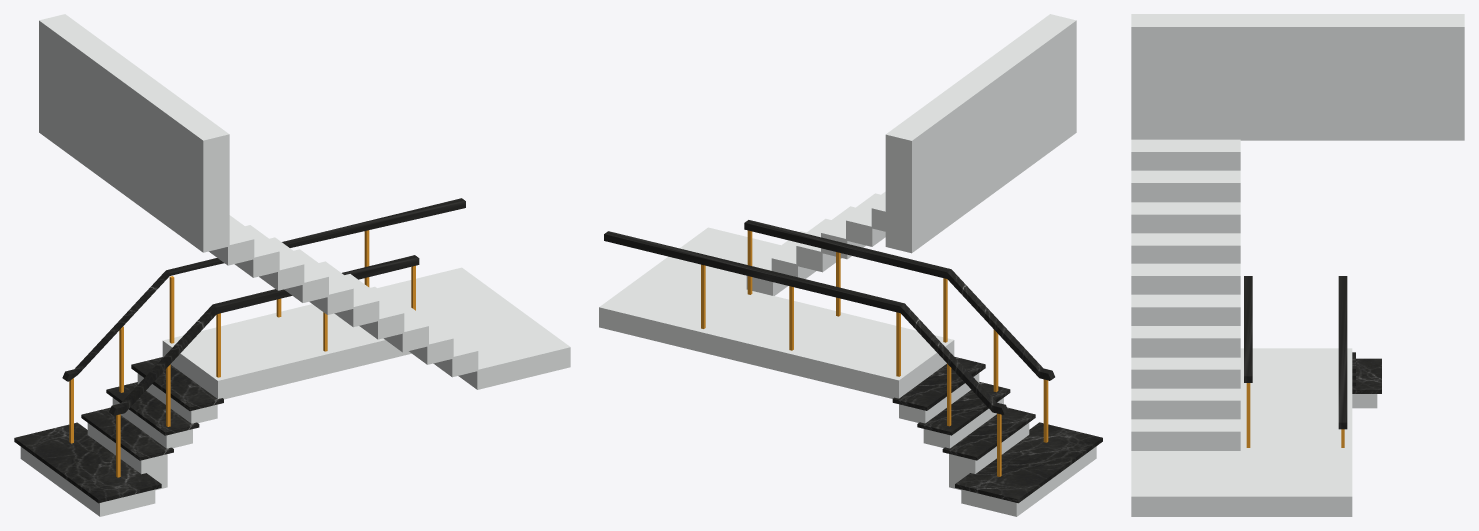
Rendered from Stair 1.fbx.
3 renders of one model, left to right at view 1: azimuth 30°, elevation 25°; view 2: azimuth 150°, elevation 25°; view 3: azimuth 270°, elevation 25°, orthographic.
Visible parts, largest first — view 1: tuong.001, tuong.018, tuong.021, tuong.007, tuong.011, tuong.020, tuong.005, tuong.019, tuong.026, tuong.023, tuong.025, tuong.003 (+6 smaller); view 2: tuong.001, tuong.018, tuong.021, tuong.007, tuong.011, tuong.020, tuong.019, tuong.005, tuong.026, tuong.024, tuong.004, tuong.025 (+1 smaller); view 3: tuong.001, tuong.018, tuong.028, tuong.003, tuong.004, tuong.023, tuong.024, tuong.025, tuong.026, tuong.027, tuong.029, tuong.022 (+3 smaller).
Boxes of the visible parts, box(x1,y1,x2,y2) form: tuong.001: box(39, 14, 229, 252); tuong.018: box(162, 267, 570, 399); tuong.021: box(14, 422, 161, 516); tuong.007: box(62, 198, 465, 381); tuong.011: box(109, 255, 419, 415); tuong.020: box(81, 407, 173, 490); tuong.005: box(131, 357, 223, 423); tuong.019: box(106, 382, 199, 448); tuong.026: box(319, 261, 379, 327); tuong.023: box(419, 311, 478, 377); tuong.025: box(345, 274, 404, 339); tuong.003: box(245, 225, 304, 290); tuong.001: box(885, 14, 1076, 253); tuong.018: box(599, 227, 954, 398); tuong.021: box(955, 422, 1102, 516); tuong.007: box(604, 231, 1008, 414); tuong.011: box(744, 220, 1054, 380); tuong.020: box(942, 407, 1035, 489); tuong.019: box(917, 382, 1010, 448); tuong.005: box(892, 356, 985, 423); tuong.026: box(846, 191, 885, 246); tuong.024: box(796, 206, 855, 272); tuong.004: box(771, 218, 830, 278); tuong.025: box(821, 193, 880, 259); tuong.001: box(1131, 14, 1464, 140); tuong.018: box(1131, 348, 1352, 516); tuong.028: box(1131, 170, 1240, 202); tuong.003: box(1131, 202, 1240, 233); tuong.004: box(1131, 388, 1240, 419); tuong.023: box(1131, 419, 1240, 450); tuong.024: box(1131, 357, 1240, 388); tuong.025: box(1131, 326, 1240, 357); tuong.026: box(1131, 294, 1240, 325); tuong.027: box(1131, 263, 1240, 294); tuong.029: box(1131, 139, 1240, 170); tuong.022: box(1131, 233, 1240, 263).
Size of the model in its own units: 32.38 by 27.98 by 21.27.
